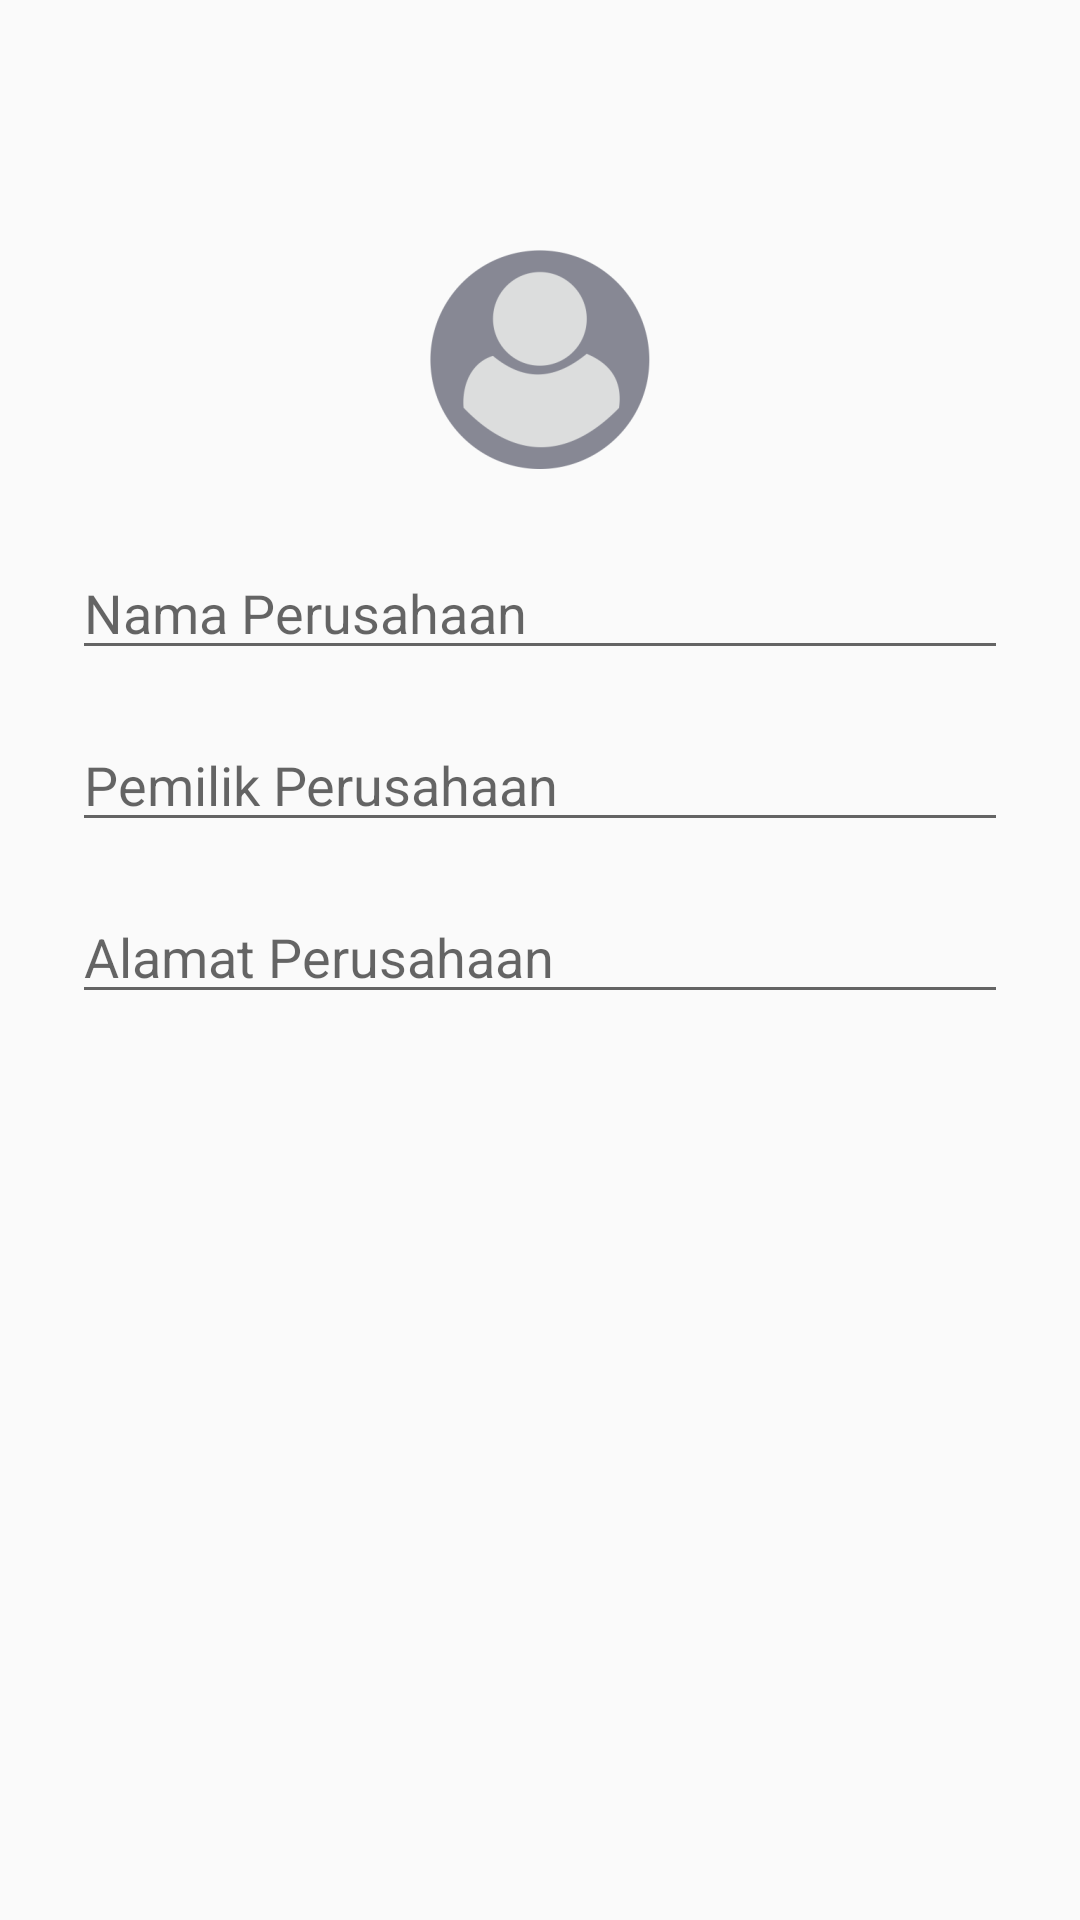

Icons on this 1080px x 1920px Android screen, each with the point to tap as point (x, y):
user: point (540, 359)
